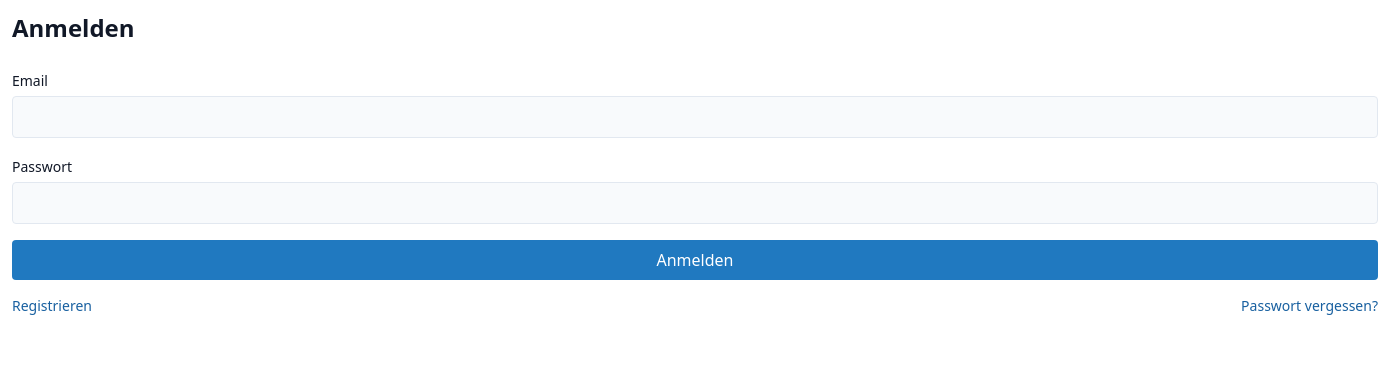
Scenario: LoginForm › shows generic error on 401
This screenshot has width=1390, height=368.
In the field labelled "Email": coordinates (695, 117) [12,96,1378,138], type "a@b.c"
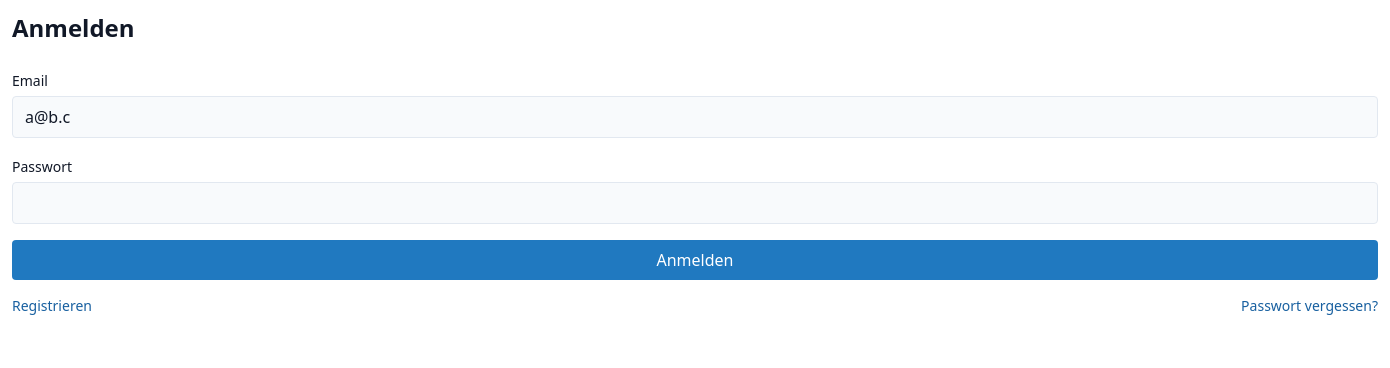
In the password field labelled "Passwort": coordinates (695, 203) [12,182,1378,224], type "wrongwrongwrong"
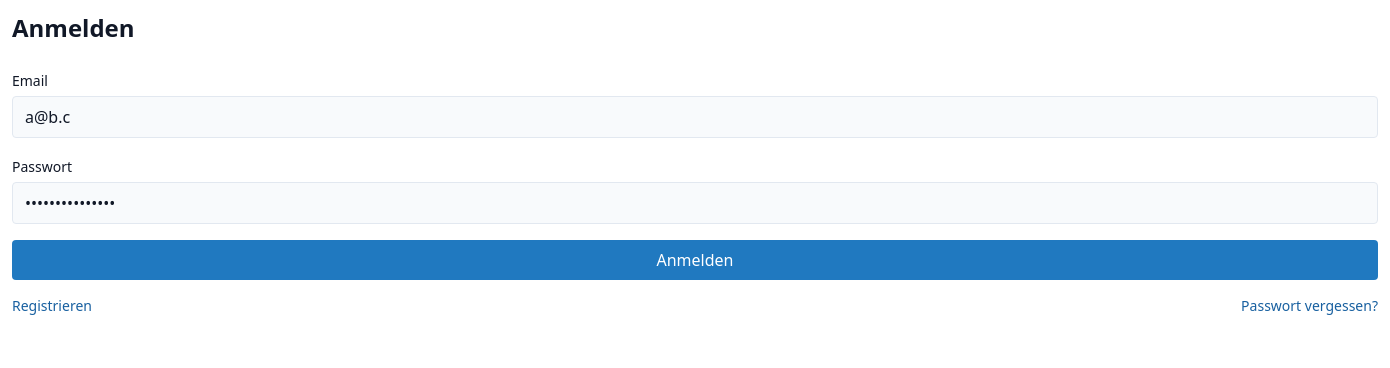
Click the button "Anmelden": coordinates (695, 260) [12,240,1378,280]
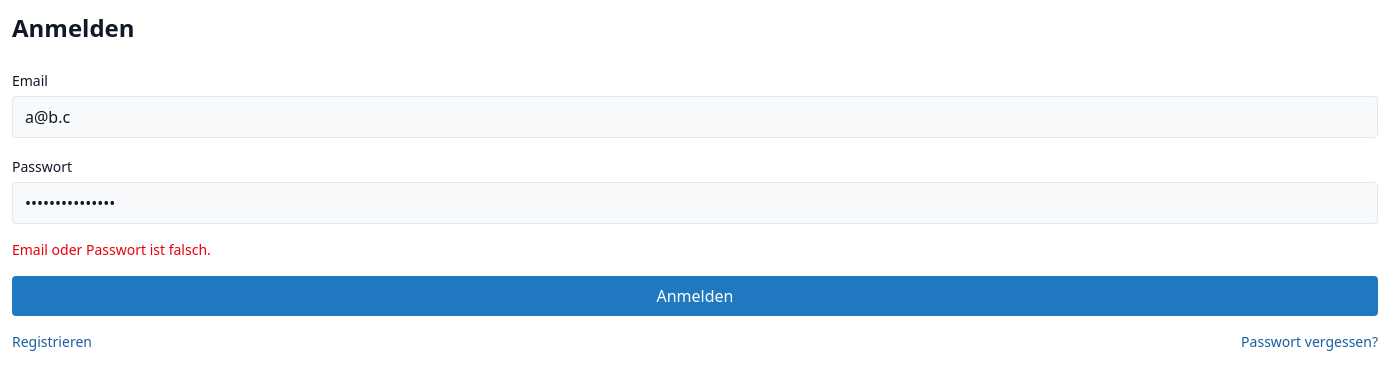
Expected: the message reads "Email oder Passwort ist falsch.", [12,240,211,259]
